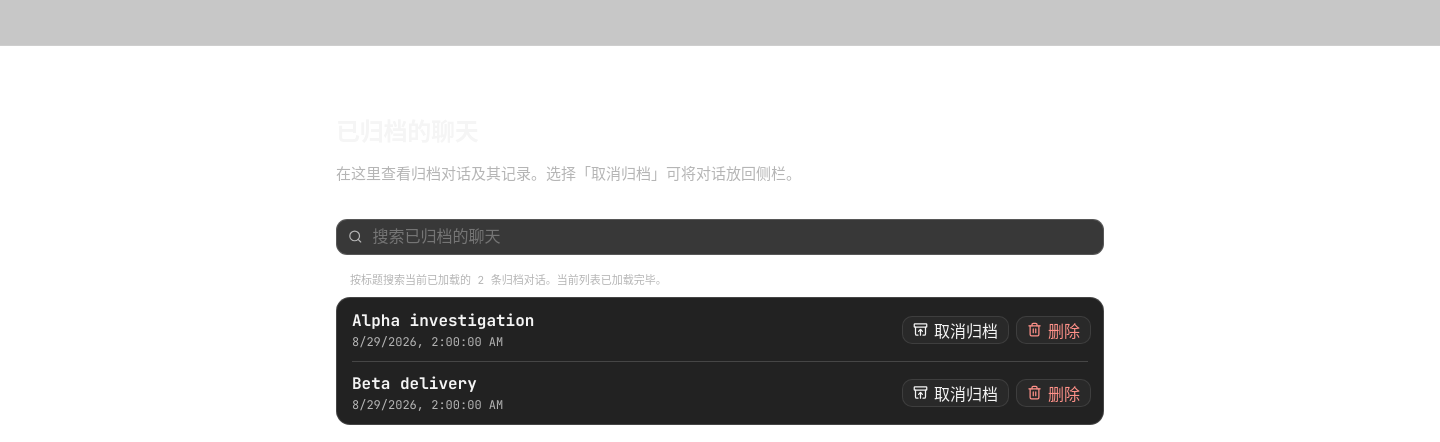
Test: V2 archived settings › loads only archived chats and filters locally without mutating lifecycle state
Expected: the text "Alpha investigation" is shown, top-left (352, 310), bottom-right (534, 331)
Expected: the text "Beta delivery" is shown, top-left (352, 373), bottom-right (477, 394)
Type "beta" into the search field labelled "搜索已归档的聊天". click: {"x": 731, "y": 236}
box: top-left (370, 225), bottom-right (1092, 248)
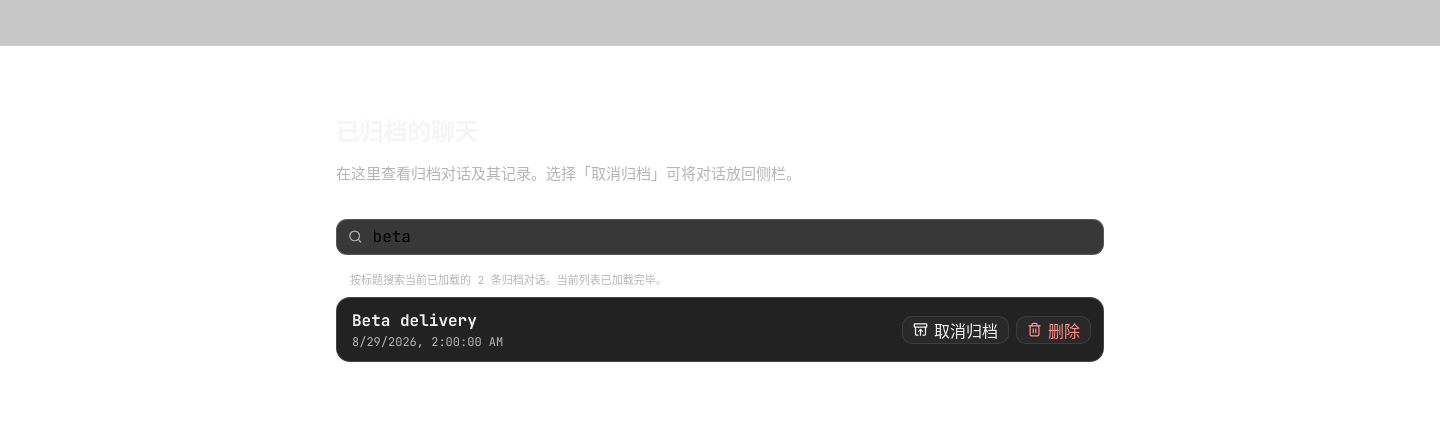
Expected: the text "Beta delivery" is shown, top-left (352, 310), bottom-right (477, 331)
Now the text "Alpha investigation" is gone
